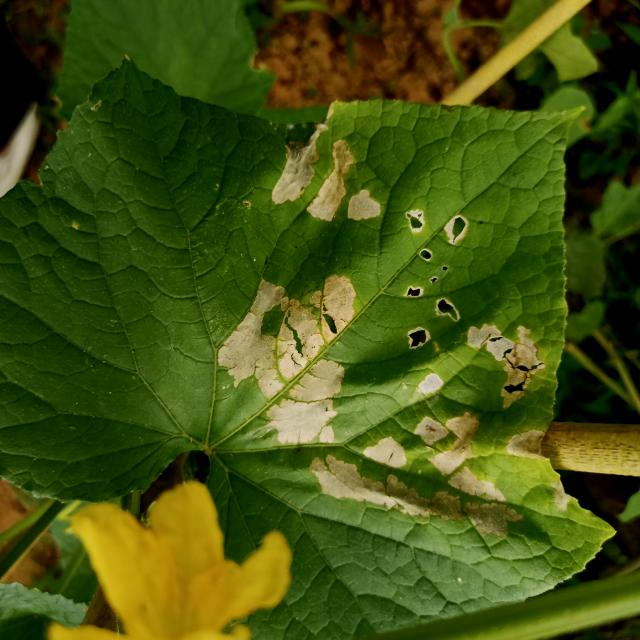disease_cucumber: (217, 126, 546, 540)
